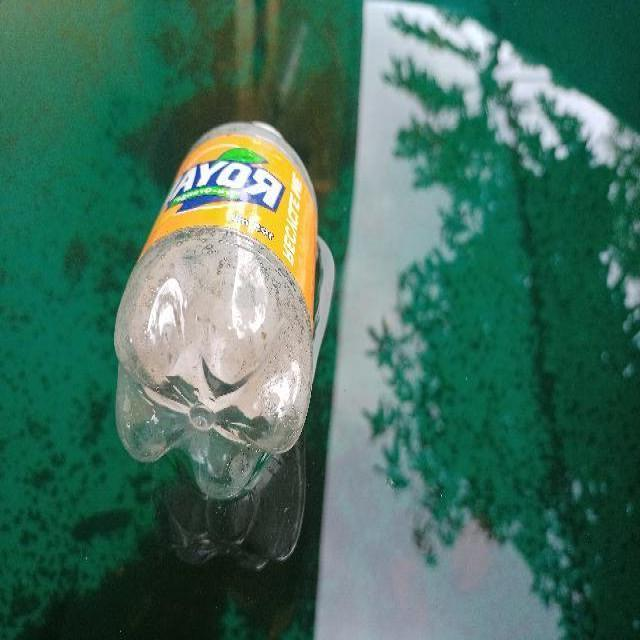Bottle: (107, 109, 329, 506)
